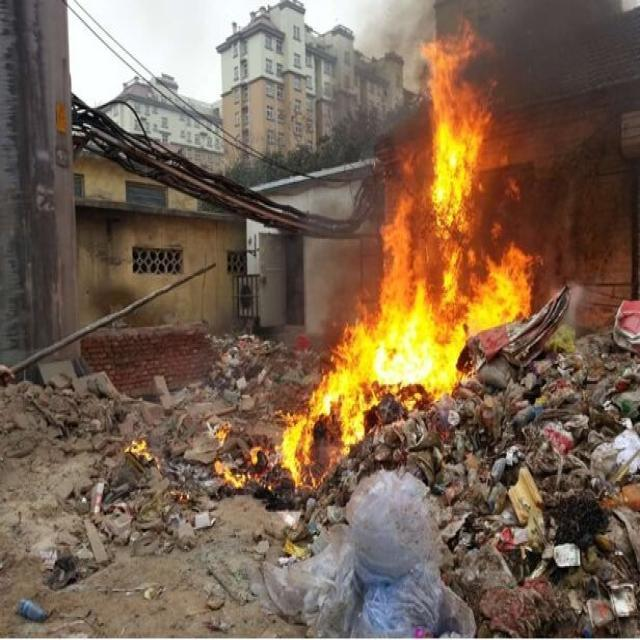Fire: (212, 18, 534, 496), (124, 438, 154, 463)
Smoke: (309, 1, 640, 345)
